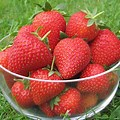Fresa: (8, 32, 53, 76), (30, 8, 67, 51), (54, 34, 91, 77), (29, 69, 65, 104), (89, 28, 120, 67), (65, 10, 99, 43), (76, 62, 111, 94), (52, 87, 86, 116), (10, 78, 36, 108)
